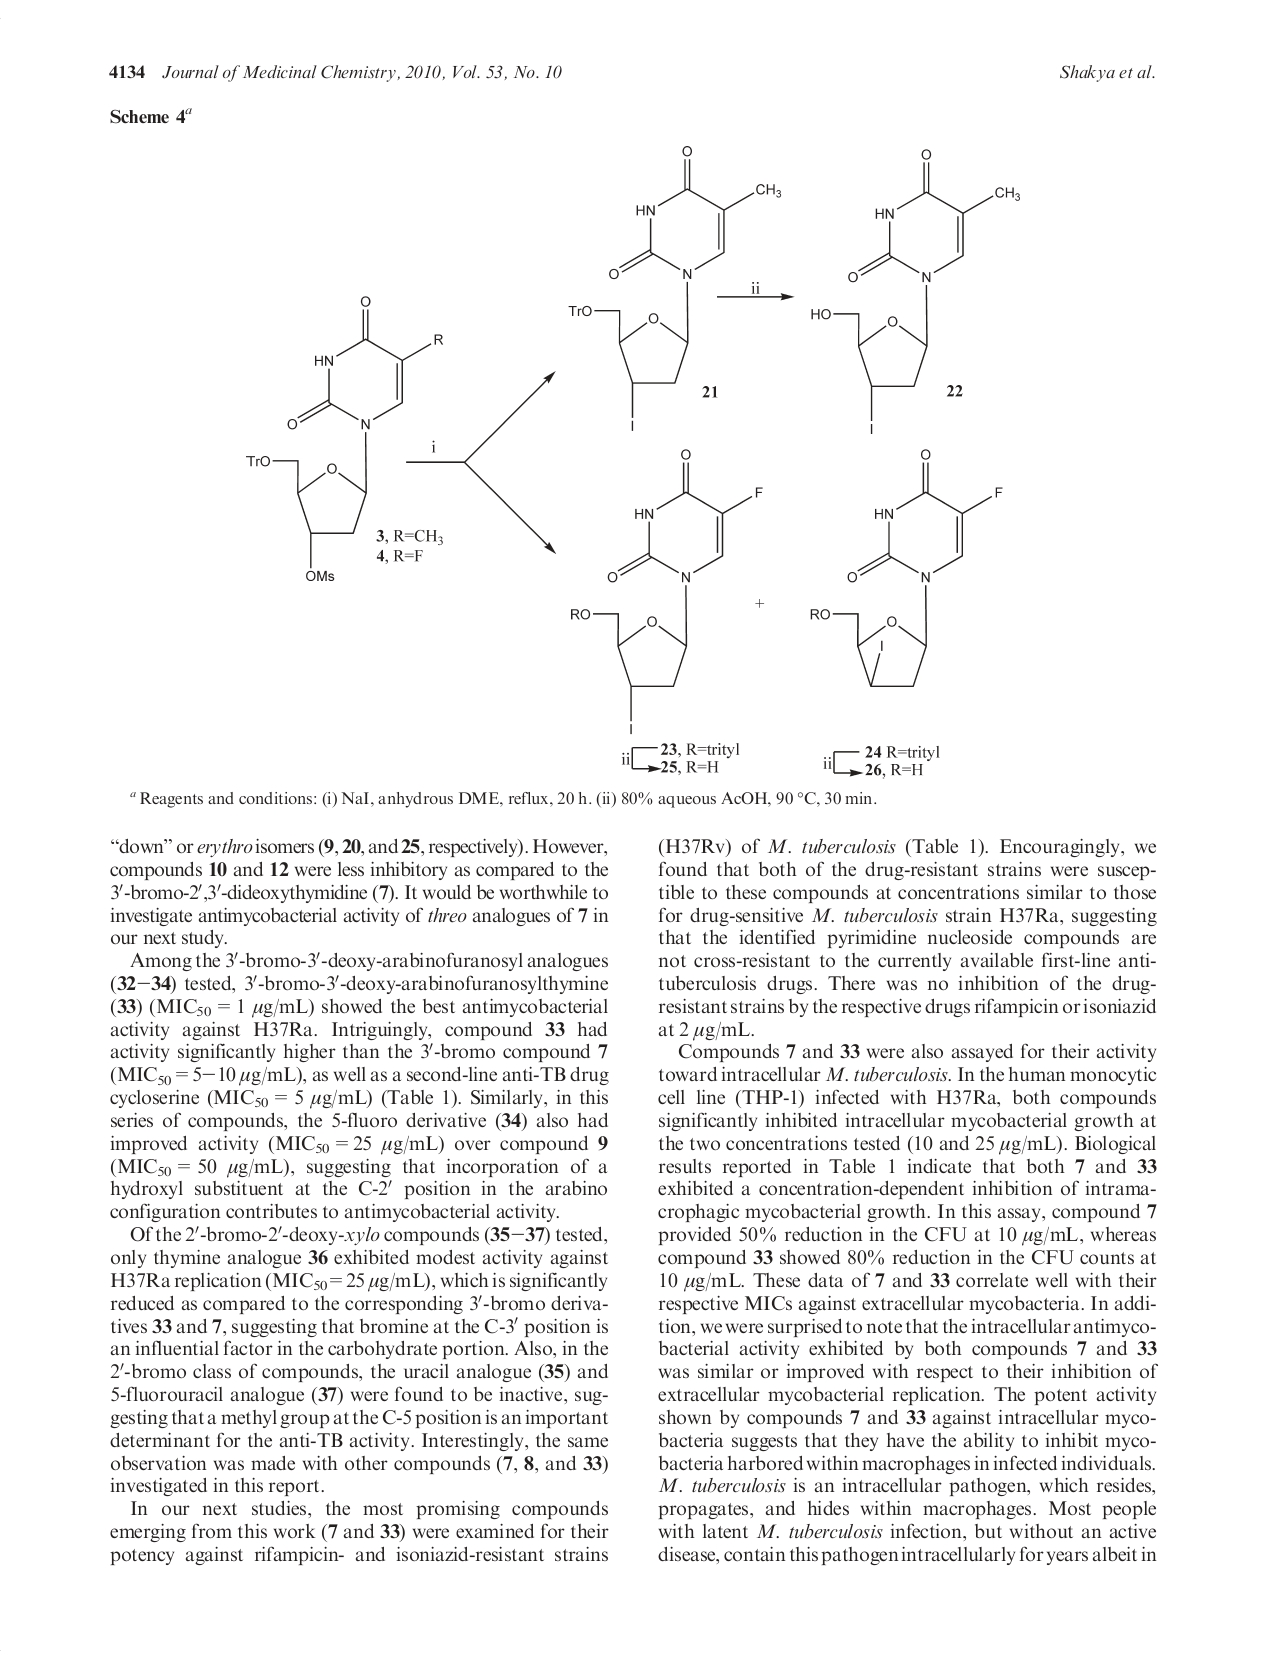exist_molecular: (556, 140, 787, 432), (239, 282, 447, 586), (806, 145, 1016, 446), (570, 446, 765, 738), (799, 446, 1013, 696)
